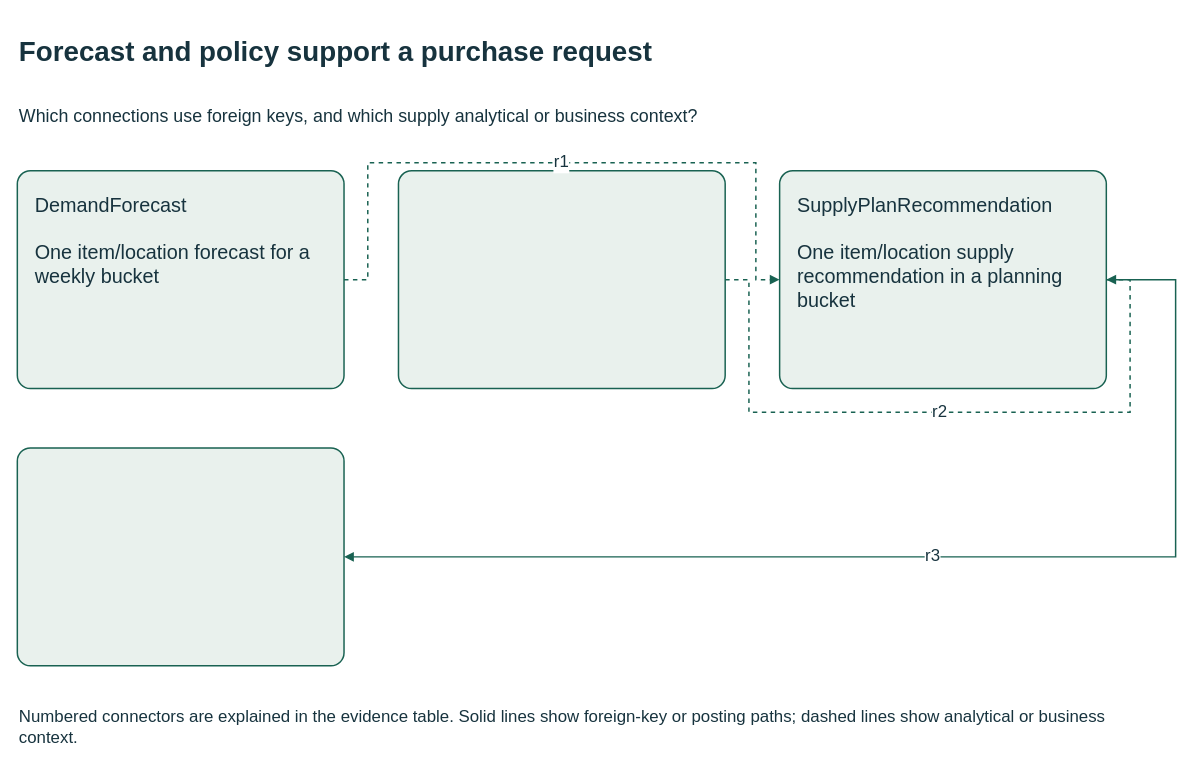
Some shapes in this 1202 by 773 pixel diagram are drawn without their labels. The centre of each missing label's shape, as x and y in pixels:
InventoryPolicy One item/location replenishment policy: (x=561, y=279)
PurchaseRequisition One internal item requisition: (x=180, y=556)
